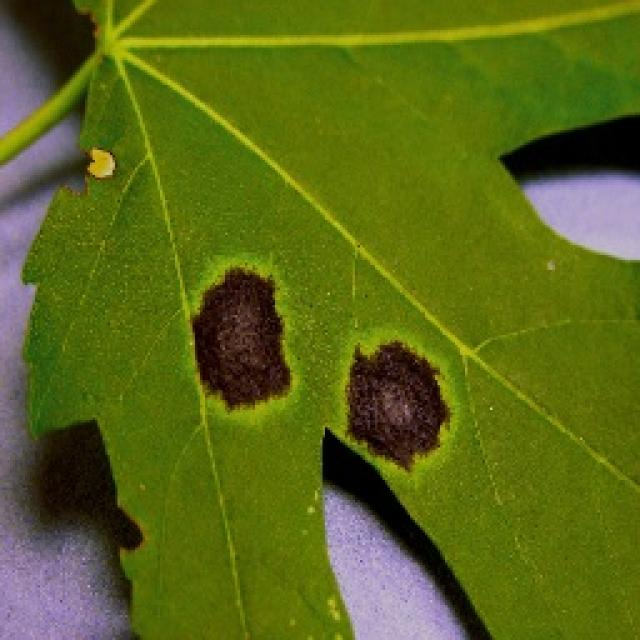Tar_Spot: (12, 0, 638, 638)
